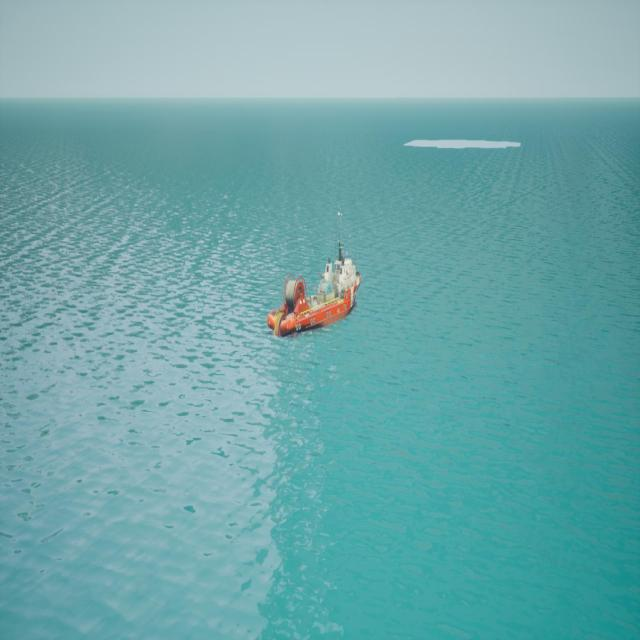tug boat: (269, 209, 363, 342)
